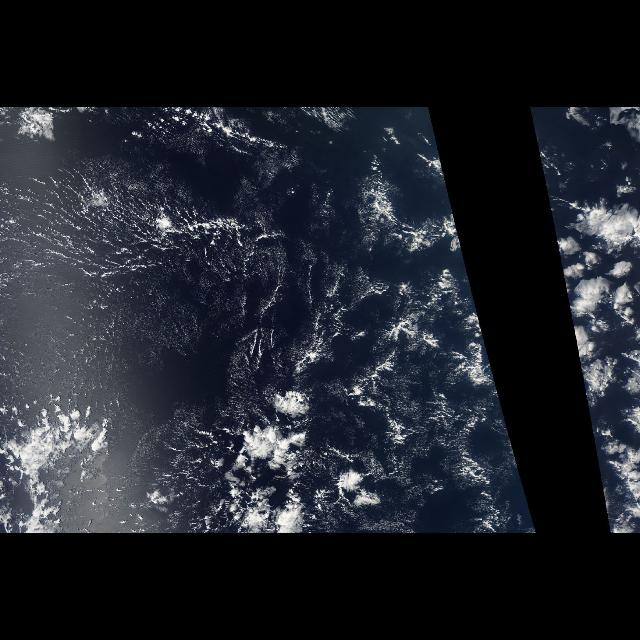Sugar: (10, 167, 340, 399)
